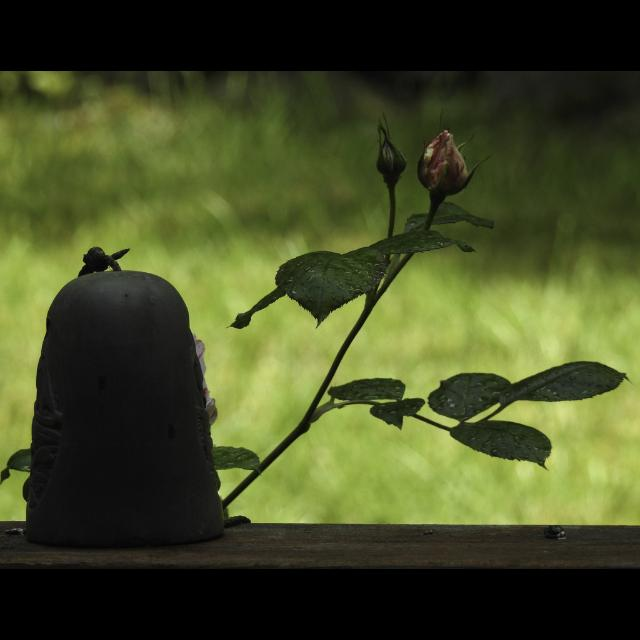Flower: (417, 128, 471, 202)
